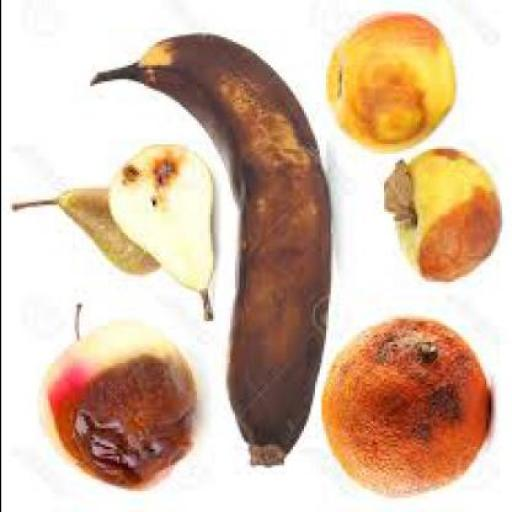biodegradable: (86, 35, 328, 470), (318, 321, 488, 500), (33, 306, 193, 494), (100, 142, 211, 326), (322, 16, 452, 156), (9, 186, 158, 282), (392, 151, 497, 286), (381, 161, 414, 221)
